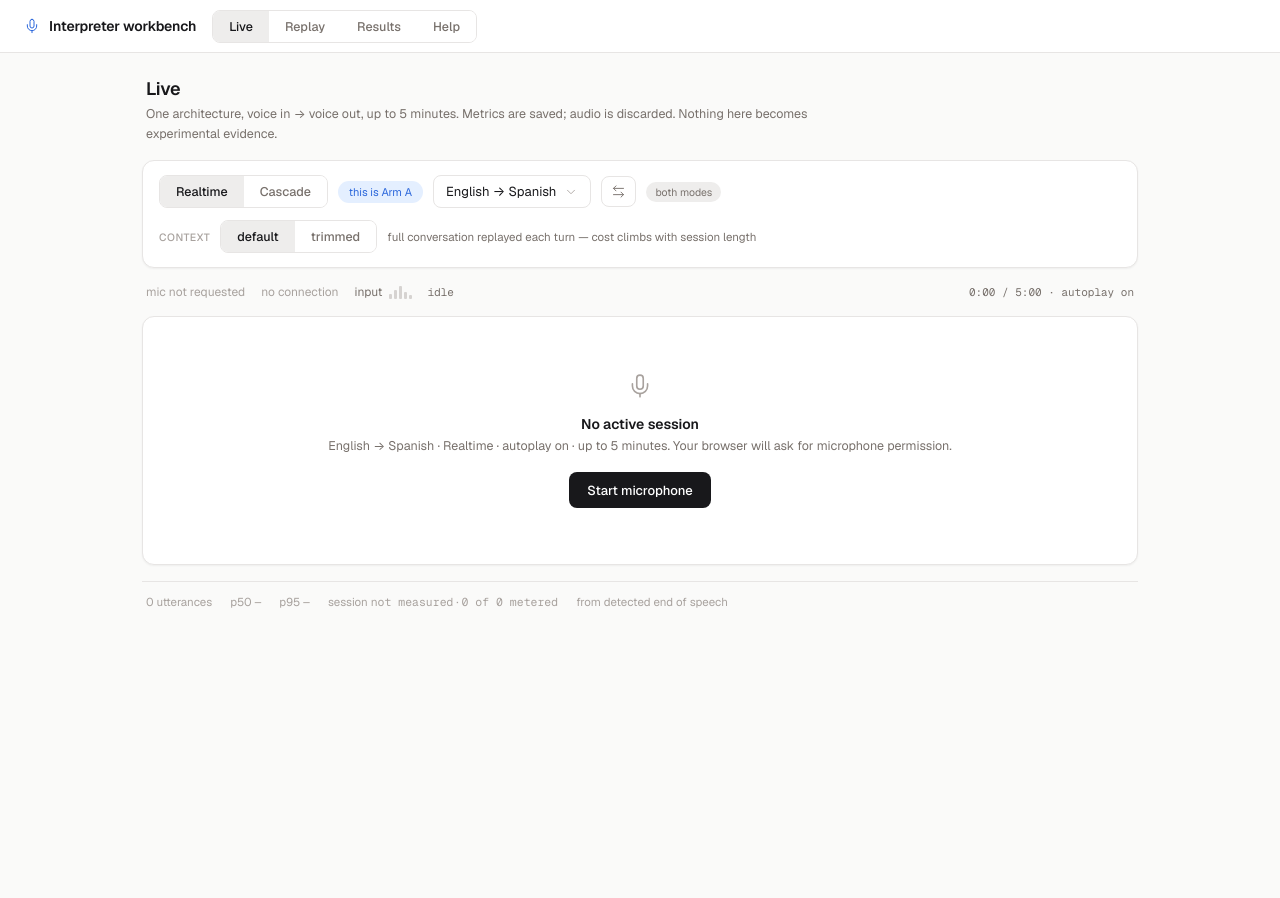
Test case: ticket 041 — App forwards the live-session listing to Results › AC5: the hydrated ZERO-UTTERANCE session is present but adds no column
Step 1. Click the button "Results" → (379, 26), box [341,10,417,42]
(page scrolled)
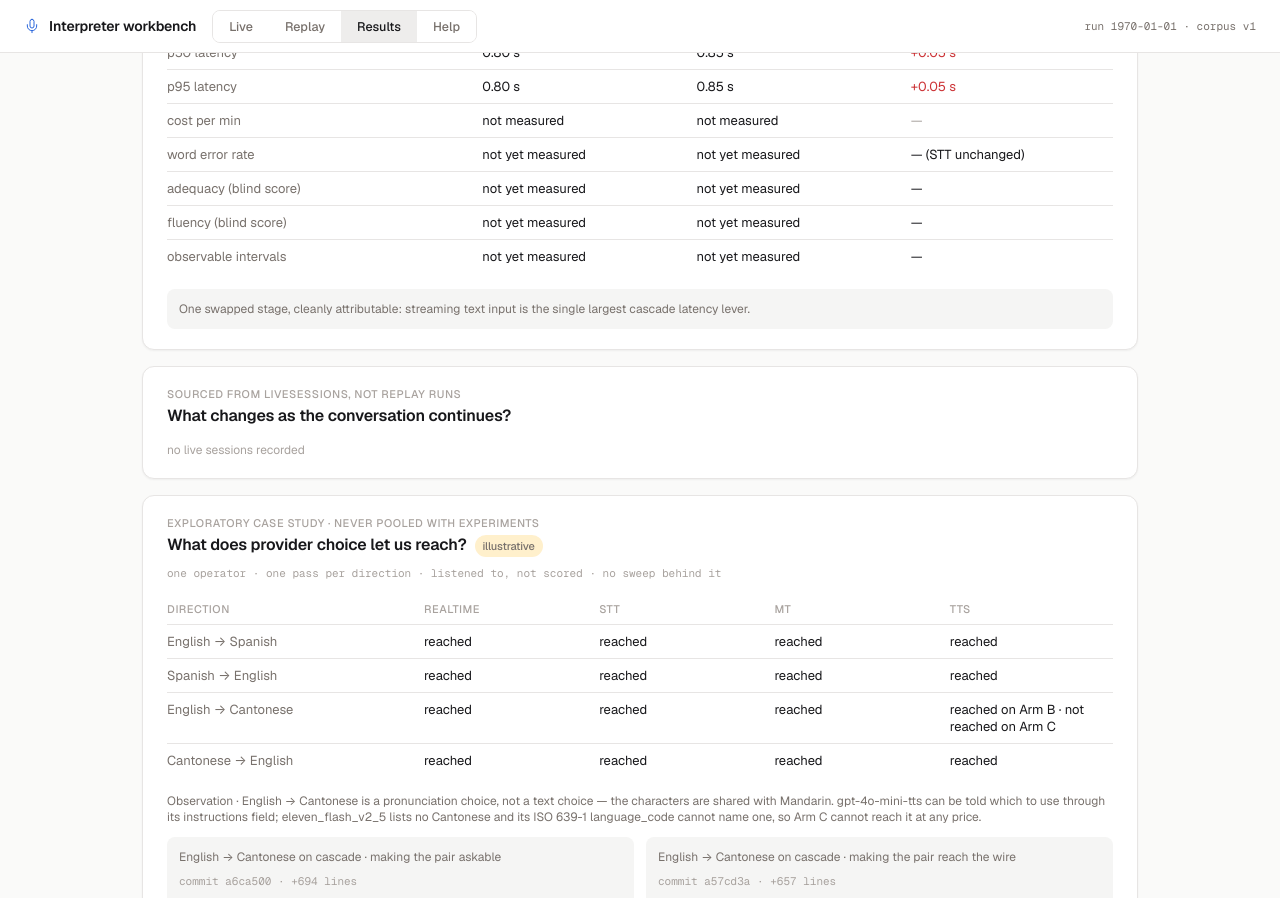
Now the text "no live sessions recorded" is shown, box [167,442,305,458]
